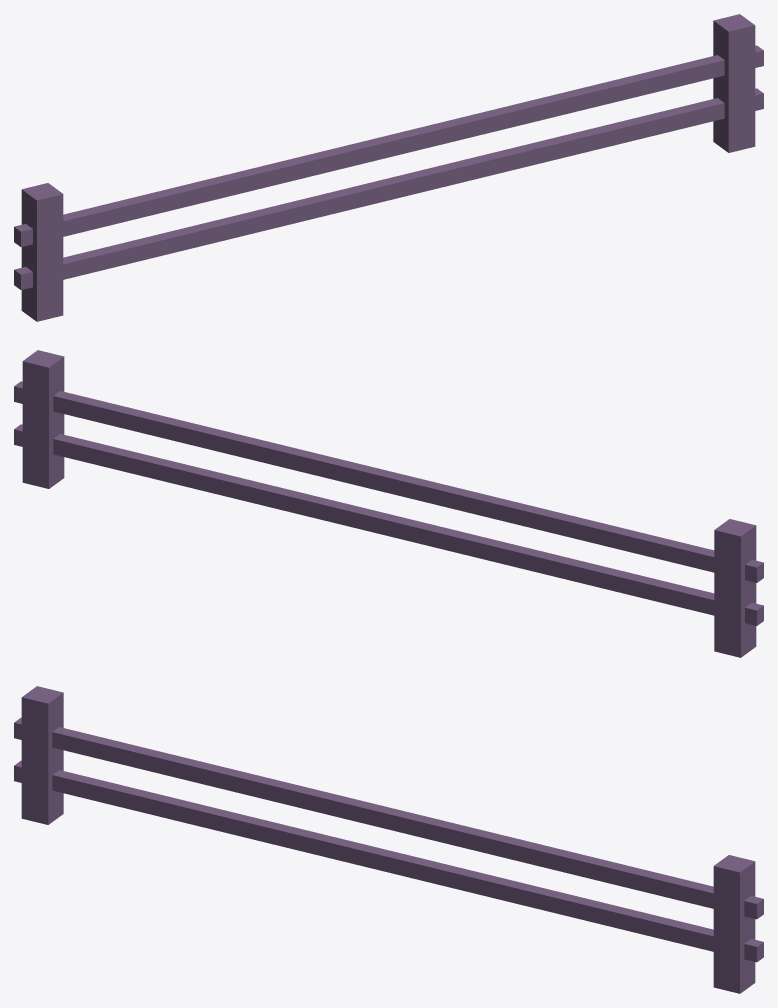
File: fencepost.fbx
The picture shows the model from 3 angles, top to bottom: view 1: azimuth 30°, elevation 25°; view 2: azimuth 150°, elevation 25°; view 3: azimuth 330°, elevation 25°; orthographic projection.
Visible parts, largest first — view 1: rail, post, fencepost; view 2: rail, post, fencepost; view 3: rail, fencepost, post.
Part boxes in pixels (x1,y1,x2,y2): rail: (14,45,763,289); post: (713,14,755,152); fencepost: (21,183,63,321); rail: (14,381,763,625); post: (22,350,64,488); fencepost: (714,519,756,657); rail: (14,717,763,962); fencepost: (21,686,63,824); post: (713,855,755,993).
Bounding box in the file's own units: 7.52 × 1.17 × 0.2687.
